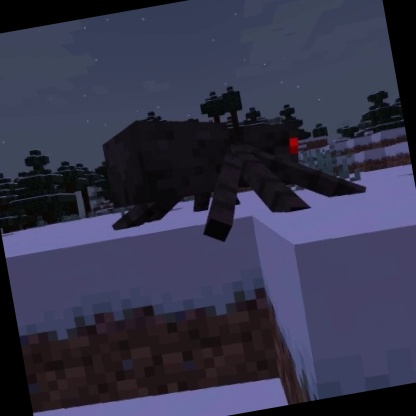spider: (90, 81, 374, 265)
